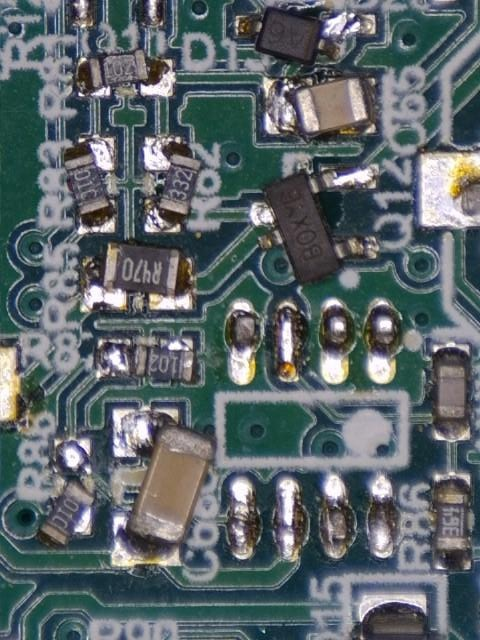pcb_defect: (111, 407, 218, 567), (251, 162, 379, 285), (234, 5, 378, 67), (79, 240, 198, 314), (262, 73, 378, 141), (37, 436, 97, 548), (142, 133, 203, 234), (63, 134, 117, 235), (96, 335, 196, 384), (77, 48, 174, 98)
